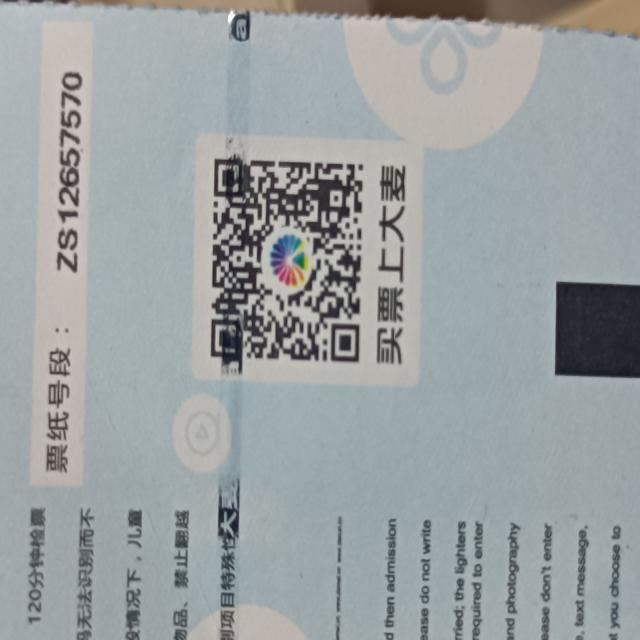qr_code: (210, 159, 365, 363)
